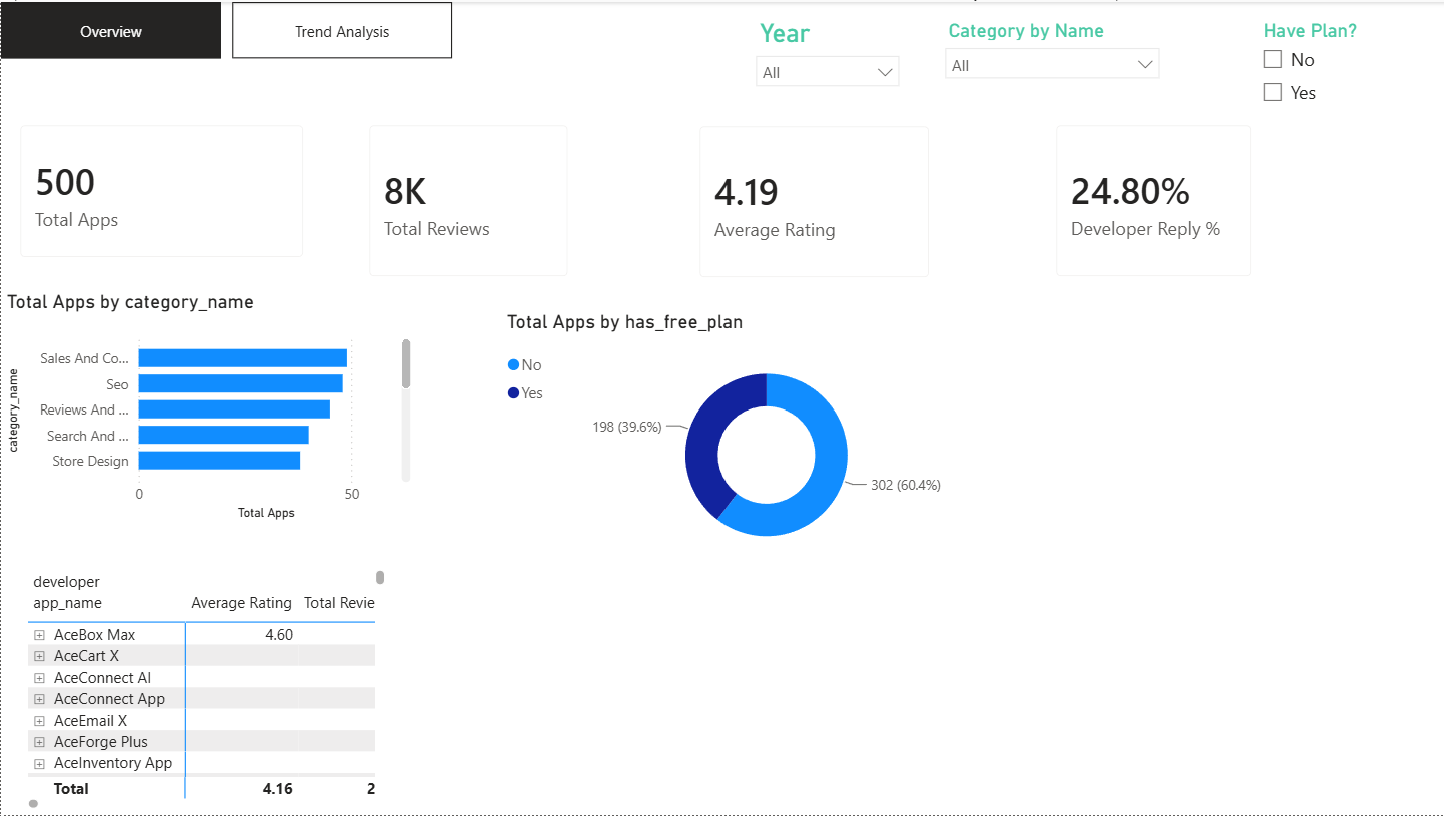

Layout of this report page (visuals, bound fields, positions):
{"tool":"powerbi","page":{"name":"Overview","canvas":[1280,720],"ordinal":0},"visuals":[{"type":"pageNavigator","box":[0,0,400,50],"z":0},{"type":"slicer","fields":{"Values":["dim_date.Year"]},"box":[658.5,9.9,147,82.8],"z":1},{"type":"slicer","fields":{"Values":["apps.category_name"]},"box":[826.6,9.9,210,97.6],"z":2},{"type":"slicer","fields":{"Values":["apps.has_free_plan"]},"box":[1105.8,9.9,159.4,97.6],"z":3},{"type":"cardVisual","fields":{"Data":["_Measures.Total Apps"]},"box":[0,92.2,285.5,151.6],"z":4},{"type":"cardVisual","fields":{"Data":["_Measures.Total Reviews"]},"box":[309.6,92.1,210,168],"z":5},{"type":"cardVisual","fields":{"Data":["_Measures.Average Rating"]},"box":[601.9,93.4,237.2,168],"z":6},{"type":"cardVisual","fields":{"Data":["_Measures.Developer Reply %"]},"box":[917.6,92.1,207.6,168],"z":7},{"type":"clusteredBarChart","fields":{"Category":["apps.category_name"],"Y":["_Measures.Total Apps"]},"box":[0,255.5,368.2,207.6],"z":8},{"type":"donutChart","fields":{"Category":["apps.has_free_plan"],"Y":["_Measures.Total Apps"]},"box":[443.5,272.7,428.7,226],"z":9},{"type":"pivotTable","fields":{"Rows":["apps.app_name","apps.category_name"],"Columns":["apps.developer"],"Values":["_Measures.Average Rating","_Measures.Total Reviews","_Measures.Developer Reply %"]},"box":[18.6,497.4,349.4,222.6],"z":10}]}

Visuals, with their boxes in screenshot pixels (x1, y1, x2, y2), scaled from the page's 1280x720 canvas onto the 1444x816 screenshot:
pageNavigator: {"x1": 0, "y1": 0, "x2": 451, "y2": 57}
slicer - dim_date.Year: {"x1": 743, "y1": 11, "x2": 909, "y2": 105}
slicer - apps.category_name: {"x1": 933, "y1": 11, "x2": 1169, "y2": 122}
slicer - apps.has_free_plan: {"x1": 1247, "y1": 11, "x2": 1427, "y2": 122}
cardVisual - _Measures.Total Apps: {"x1": 0, "y1": 104, "x2": 322, "y2": 276}
cardVisual - _Measures.Total Reviews: {"x1": 349, "y1": 104, "x2": 586, "y2": 295}
cardVisual - _Measures.Average Rating: {"x1": 679, "y1": 106, "x2": 947, "y2": 296}
cardVisual - _Measures.Developer Reply %: {"x1": 1035, "y1": 104, "x2": 1269, "y2": 295}
clusteredBarChart - apps.category_name x _Measures.Total Apps: {"x1": 0, "y1": 290, "x2": 415, "y2": 525}
donutChart - apps.has_free_plan x _Measures.Total Apps: {"x1": 500, "y1": 309, "x2": 984, "y2": 565}
pivotTable - apps.app_name x apps.category_name: {"x1": 21, "y1": 564, "x2": 415, "y2": 815}
